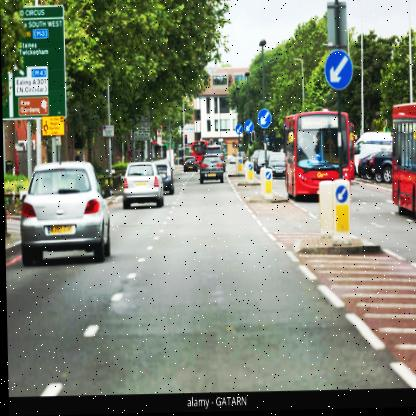Keep left: (321, 48, 355, 93), (333, 182, 349, 207), (256, 109, 271, 130), (243, 120, 254, 136), (263, 169, 272, 183), (234, 123, 242, 136), (264, 170, 272, 183), (247, 164, 253, 172), (238, 158, 242, 166)
